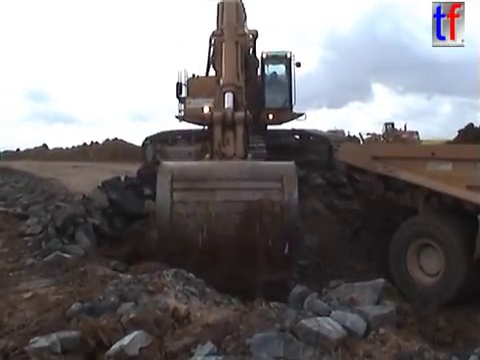excavator: (137, 1, 347, 287)
truck: (329, 137, 480, 311)
wheel loader: (355, 120, 425, 154)
